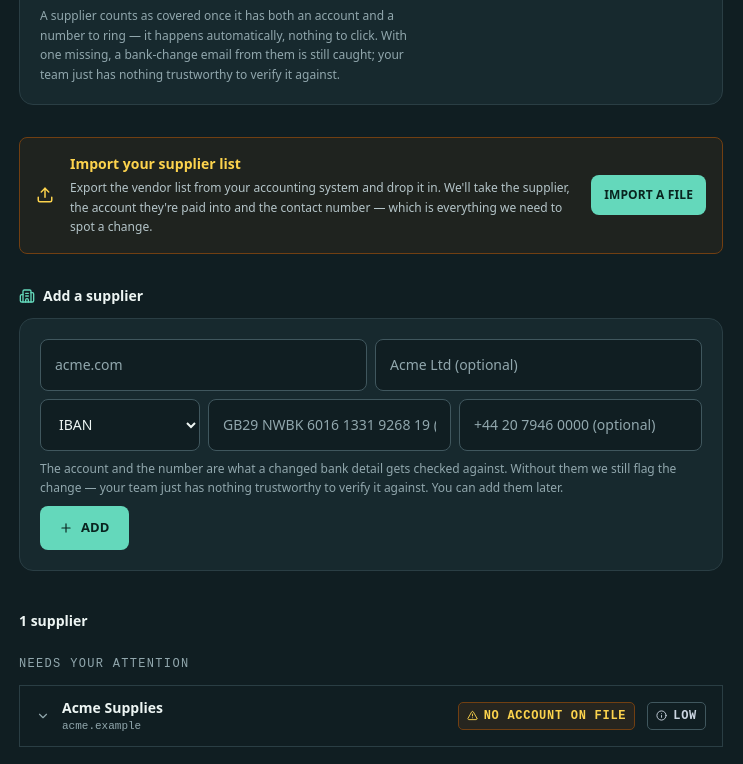
Test case: supplier detail › warns when there is nothing to check a changed account against
(page scrolled)
Click the button "Acme Supplies acme.example No account on file Low" at (112, 707), box 20,686 -> 722,746
(page scrolled)
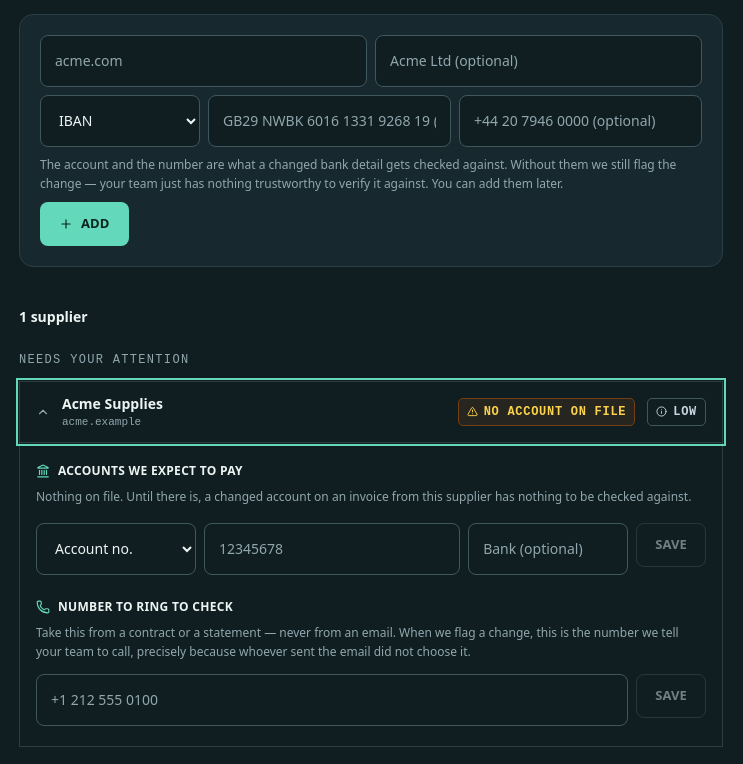
Expected: the text "has nothing to be checked against" is shown, 36,488 -> 691,505
